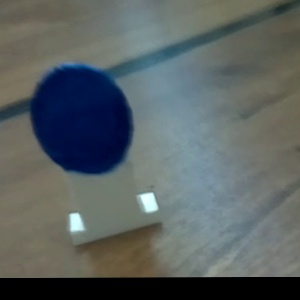circle: (20, 65, 171, 247)
